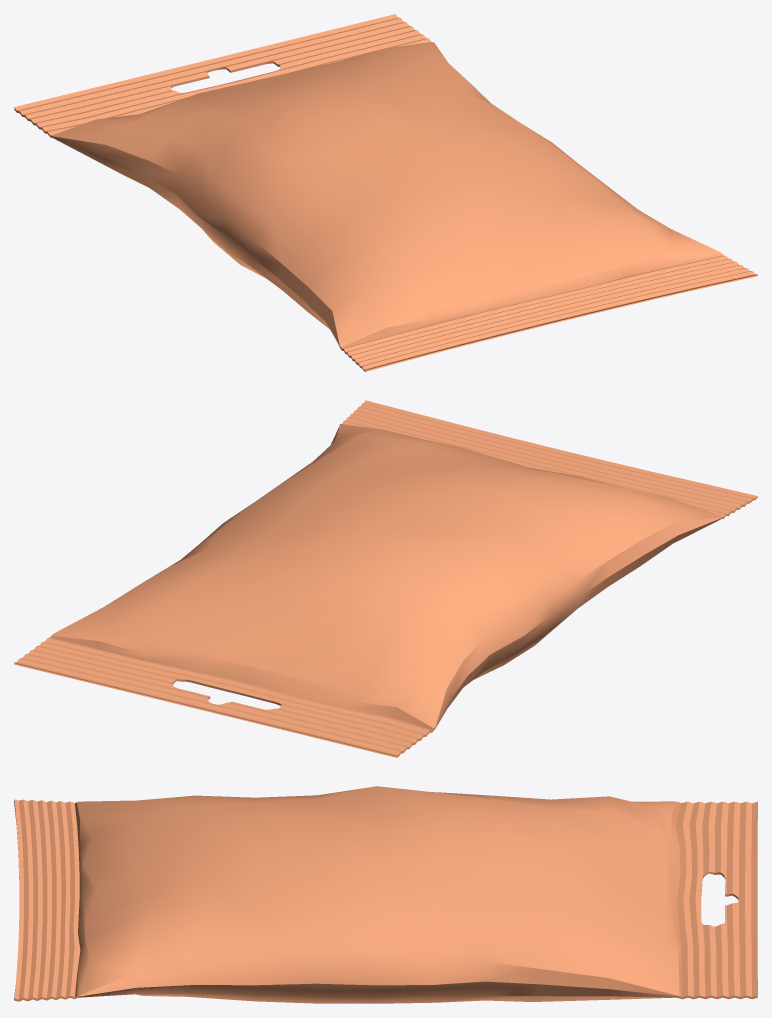
Rendered from pack.glb.
3 views of the same model, one above another, from view 1: azimuth 30°, elevation 25°; view 2: azimuth 150°, elevation 25°; view 3: azimuth 270°, elevation 25° (orthographic). The views are drawn at different scales.
Parts seen in each view (by area): view 1: Plane_0; view 2: Plane_0; view 3: Plane_0.
Part boxes in pixels (left/top/right/bottom): Plane_0: left=14, top=14, right=757, bottom=371; Plane_0: left=14, top=400, right=757, bottom=757; Plane_0: left=14, top=786, right=757, bottom=1003.
Bounding box in the file's own units: 2.05 × 0.6488 × 3.23.
